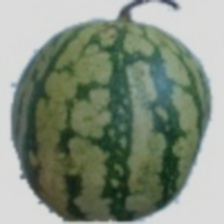watermelon: (28, 11, 178, 186)
